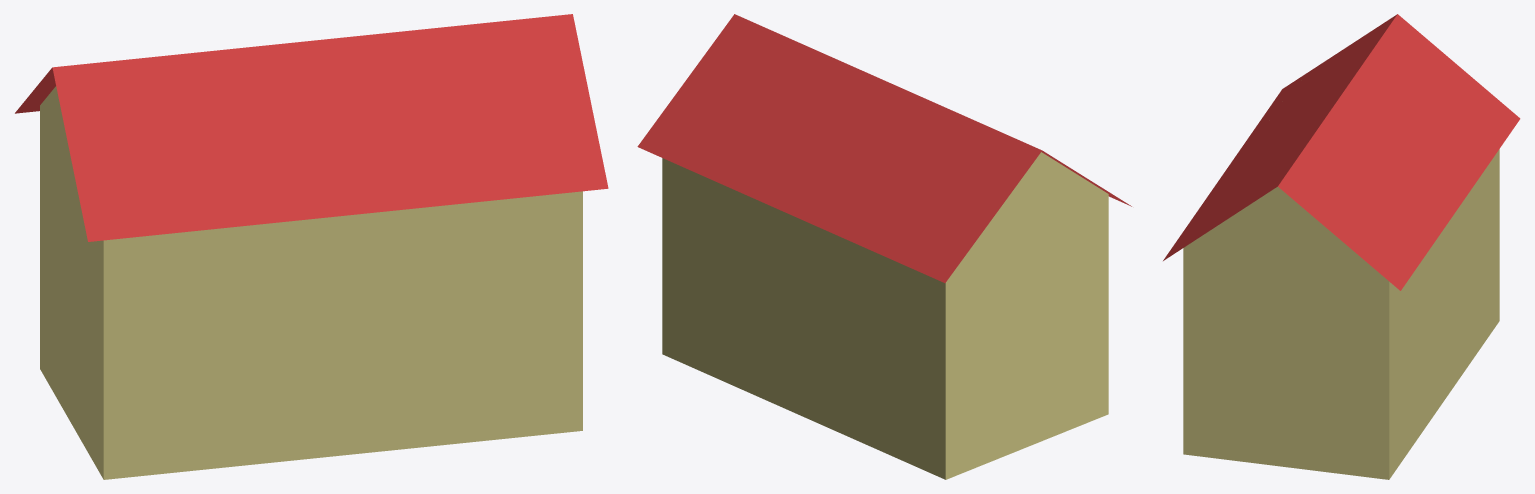
3 renders of one model, left to right at view 1: azimuth 30°, elevation 25°; view 2: azimuth 150°, elevation 25°; view 3: azimuth 270°, elevation 25°, orthographic. The views are drawn at different scales.
Visible parts, largest first — view 1: group_5, group_3, group_4; view 2: group_5, group_3, group_4; view 3: group_5, group_3, group_4.
Boxes of the visible parts, x1,y1,x2,y2 form: group_5: (40,86,582,479); group_3: (15,15,608,241); group_4: (53,14,572,241); group_5: (662,152,1108,479); group_3: (637,14,1131,275); group_4: (640,145,1124,282); group_5: (1183,149,1499,479); group_3: (1163,14,1499,290); group_4: (1217,14,1520,289).
Size of the model in its own units: 21.23 by 15.9 by 14.06.
